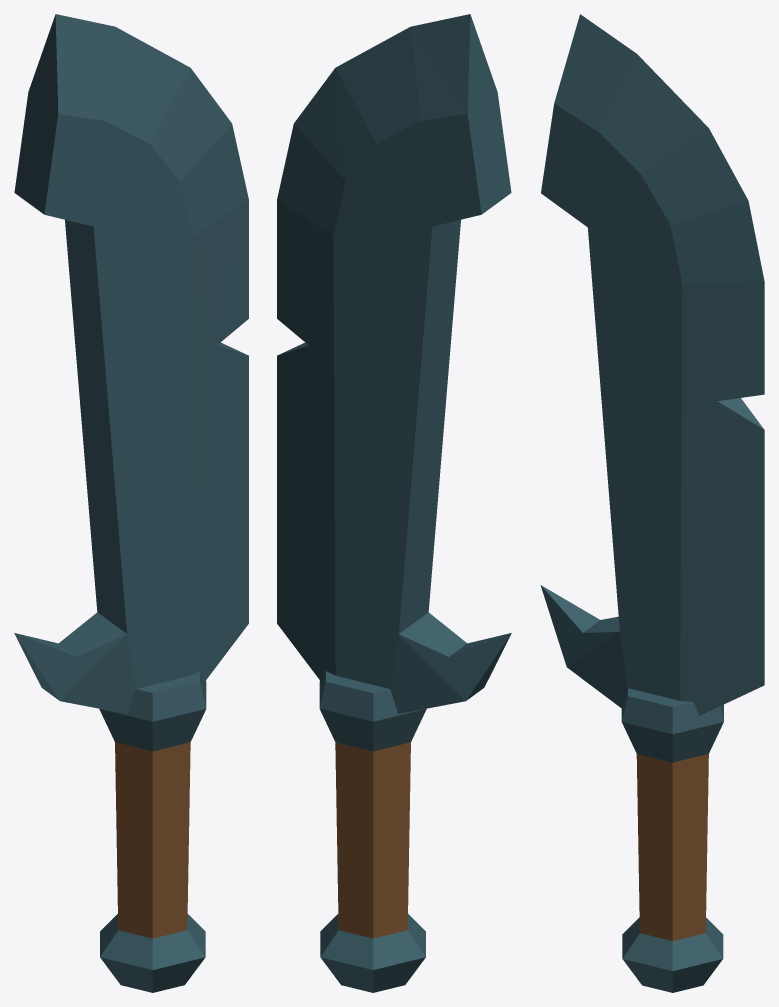
File: Sword11.fbx
3 renders of one model, left to right at view 1: azimuth 30°, elevation 25°; view 2: azimuth 150°, elevation 25°; view 3: azimuth 330°, elevation 25°, orthographic. The views are drawn at different scales.
Visible parts, largest first — view 1: Weapon11; view 2: Weapon11; view 3: Weapon11.
Part boxes in pixels (x1=…): Weapon11: x1=14, y1=14, x2=248, y2=992; Weapon11: x1=277, y1=14, x2=511, y2=992; Weapon11: x1=540, y1=14, x2=764, y2=992.
Bounding box in the file's own units: 27.21 × 109 × 10.76.
